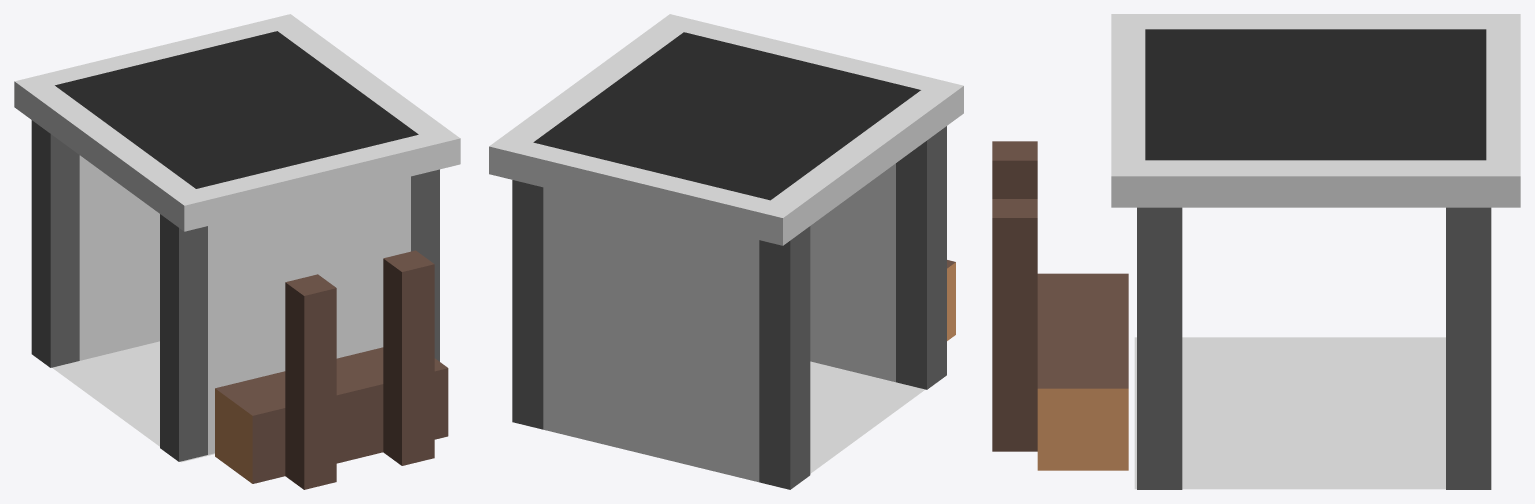
File: WoodCutterglb.glb
3 views of the same model, side by side, from view 1: azimuth 30°, elevation 25°; view 2: azimuth 150°, elevation 25°; view 3: azimuth 270°, elevation 25° (orthographic). The views are drawn at different scales.
Parts seen in each view (by area): view 1: grouind; view 2: grouind; view 3: grouind.
Part boxes in pixels (x1,y1,x2,y2): grouind: (14, 14, 460, 489); grouind: (489, 14, 963, 489); grouind: (992, 14, 1520, 489).
Size of the model in its own units: 0.529 by 0.4857 by 0.7275.
